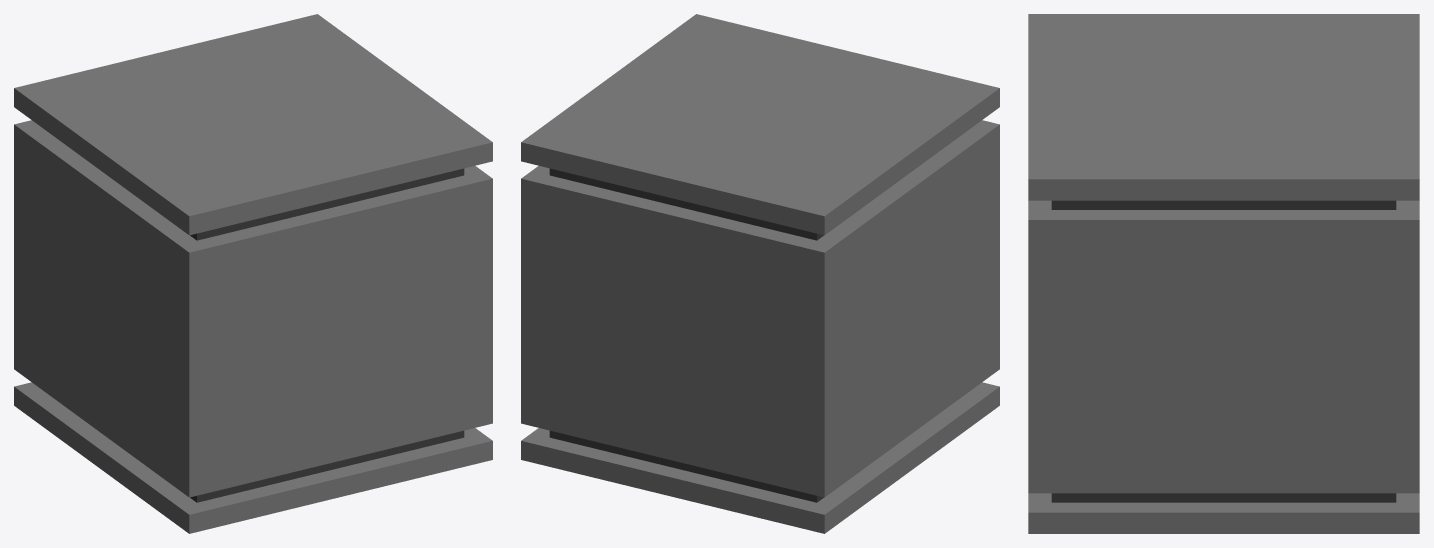
The model's file is Block.fbx.
The picture shows the model from 3 angles, left to right: view 1: azimuth 30°, elevation 25°; view 2: azimuth 150°, elevation 25°; view 3: azimuth 270°, elevation 25°; orthographic projection. The views are drawn at different scales.
Visible parts, largest first — view 1: Cube.059; view 2: Cube.059; view 3: Cube.059.
Boxes of the visible parts, x1=… form: Cube.059: x1=14, y1=14, x2=492, y2=533; Cube.059: x1=521, y1=14, x2=999, y2=533; Cube.059: x1=1028, y1=14, x2=1419, y2=533.
Size of the model in its own units: 200 by 200 by 200.
